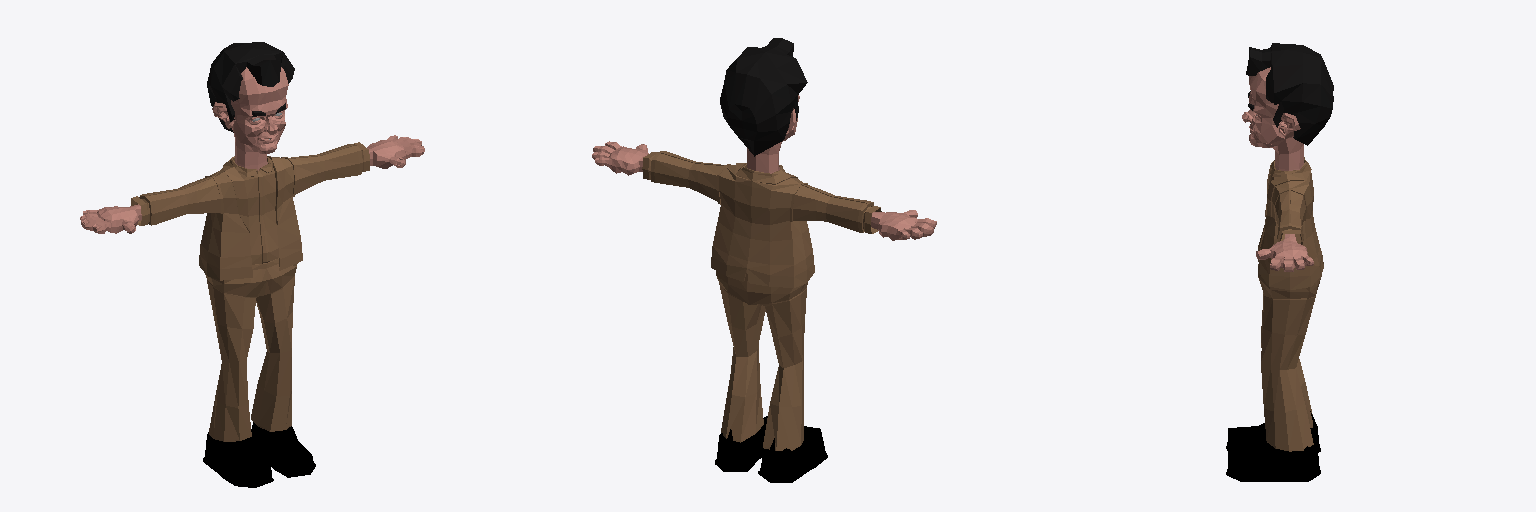
Rendered from FeelGoodComics_TomHanks.obj.
3 views of the same model, side by side, from view 1: azimuth 30°, elevation 25°; view 2: azimuth 150°, elevation 25°; view 3: azimuth 270°, elevation 25° (orthographic).
Parts seen in each view (by area): view 1: GEO_body_Cube.004, GEO_shoes_Cube.005, GEO_head_Cube, GEO_hair_Circle.005, GEO_hands_Cube.003; view 2: GEO_body_Cube.004, GEO_hair_Circle.005, GEO_shoes_Cube.005, GEO_hands_Cube.003, GEO_head_Cube; view 3: GEO_body_Cube.004, GEO_hair_Circle.005, GEO_shoes_Cube.005, GEO_head_Cube, GEO_hands_Cube.003.
Part boxes in pixels (x1,y1,x2,y2): GEO_body_Cube.004: (131,142,369,441); GEO_shoes_Cube.005: (203,422,315,487); GEO_head_Cube: (212,67,288,170); GEO_hair_Circle.005: (207,42,294,132); GEO_hands_Cube.003: (80,135,424,233); GEO_body_Cube.004: (642,151,881,450); GEO_hair_Circle.005: (720,38,807,156); GEO_shoes_Cube.005: (715,416,827,482); GEO_hands_Cube.003: (592,141,936,240); GEO_head_Cube: (747,95,799,173); GEO_body_Cube.004: (1258,157,1323,451); GEO_hair_Circle.005: (1246,43,1333,145); GEO_shoes_Cube.005: (1226,411,1320,481); GEO_head_Cube: (1242,67,1303,170); GEO_hands_Cube.003: (1256,234,1313,271).
Bounding box in the file's own units: 21.26 × 24.87 × 5.86.